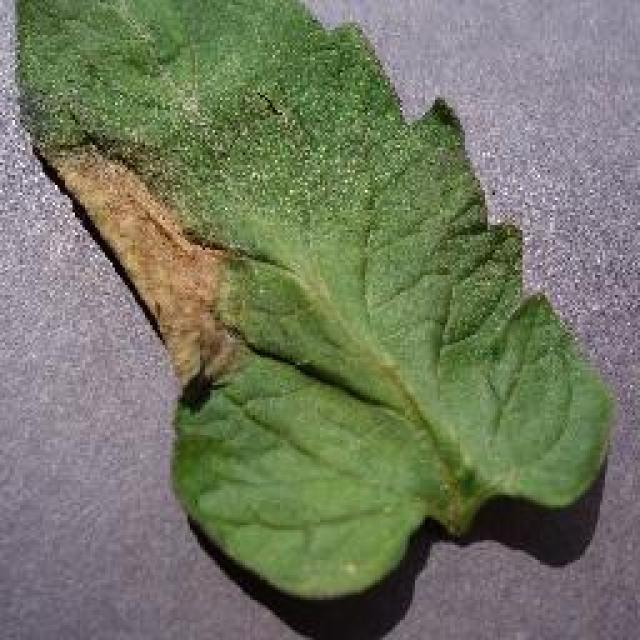Tomato Late Blight: (61, 75, 476, 390)
